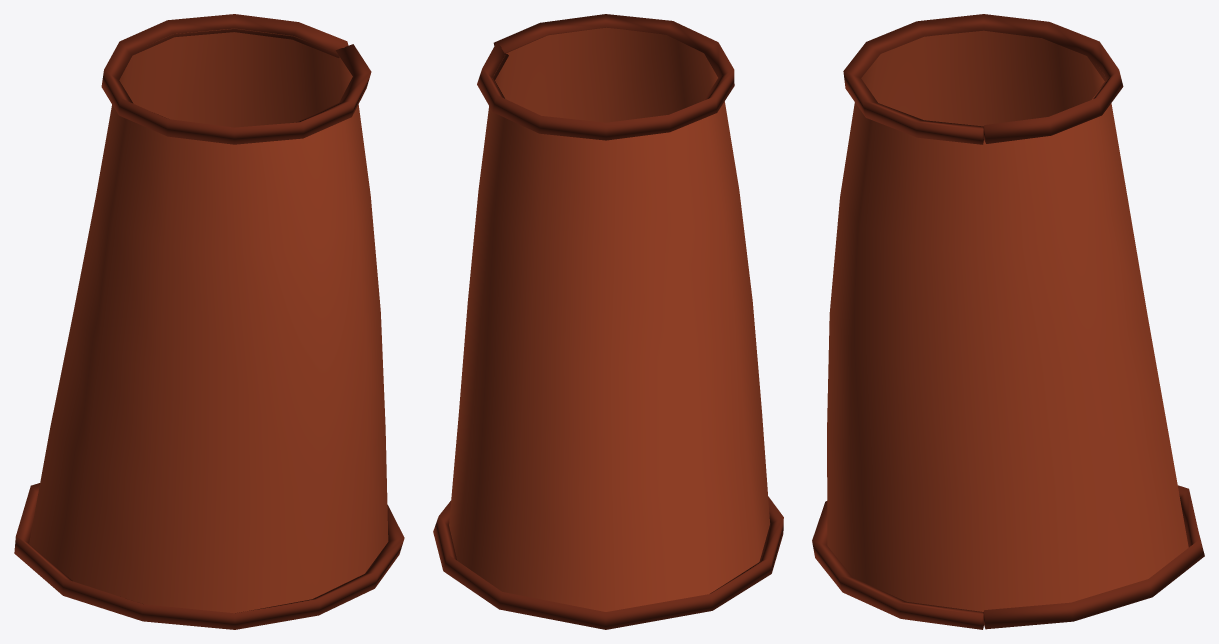
Rendered from meteor_armor_cuisse.R.glb.
3 views of the same model, side by side, from view 1: azimuth 30°, elevation 25°; view 2: azimuth 150°, elevation 25°; view 3: azimuth 270°, elevation 25° (orthographic). The views are drawn at different scales.
Parts seen in each view (by area): view 1: meteor_armor_cuisse.R; view 2: meteor_armor_cuisse.R; view 3: meteor_armor_cuisse.R.
Boxes of the visible parts, <box> form: meteor_armor_cuisse.R: <box>14,14,404,629</box>; meteor_armor_cuisse.R: <box>433,14,783,629</box>; meteor_armor_cuisse.R: <box>812,14,1204,629</box>.
Bounding box in the file's own units: 0.2685 × 0.3856 × 0.2809.
